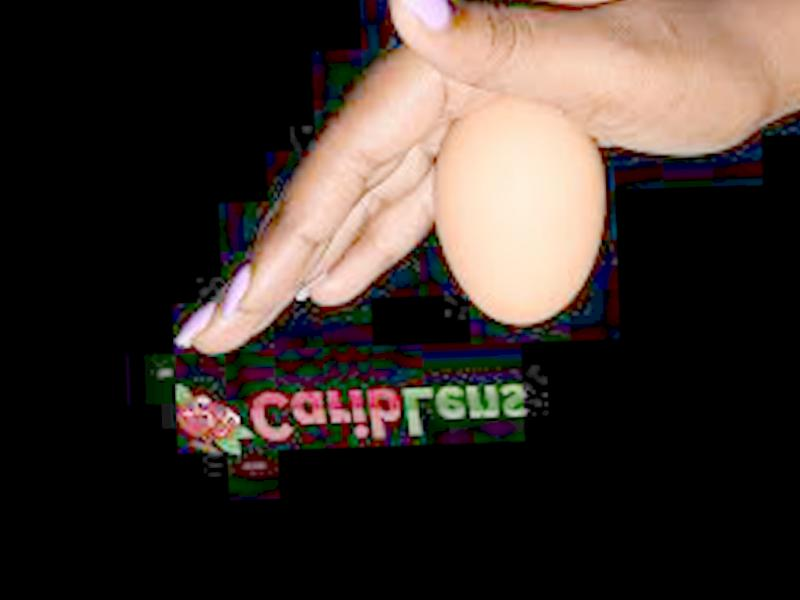Eggs: (429, 96, 610, 328)
